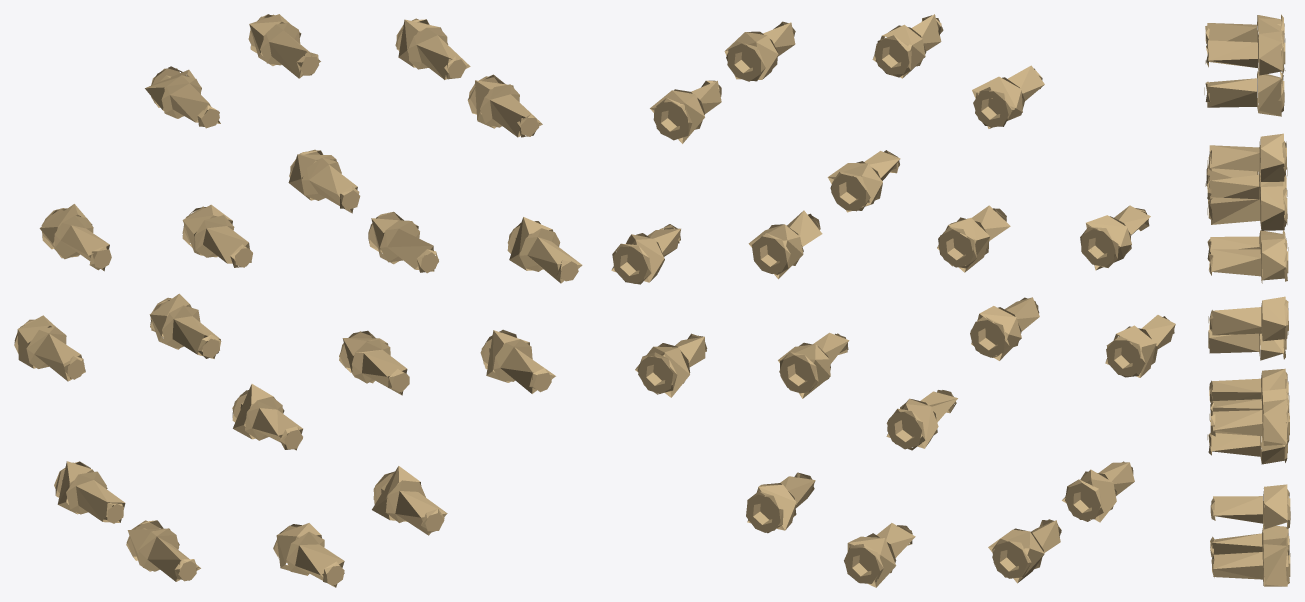
Rendered from rear_left_wheel_141.dae.
The picture shows the model from 3 angles, left to right: view 1: azimuth 30°, elevation 25°; view 2: azimuth 150°, elevation 25°; view 3: azimuth 270°, elevation 25°; orthographic projection. The views are drawn at different scales.
Visible parts, largest first — view 1: node; view 2: node; view 3: node.
Part boxes in pixels (x1,y1,x2,y2): node: (14,14,582,587); node: (611,14,1175,587); node: (1204,14,1290,586).
Size of the model in its own units: 0.1729 by 0.026 by 0.1735.
